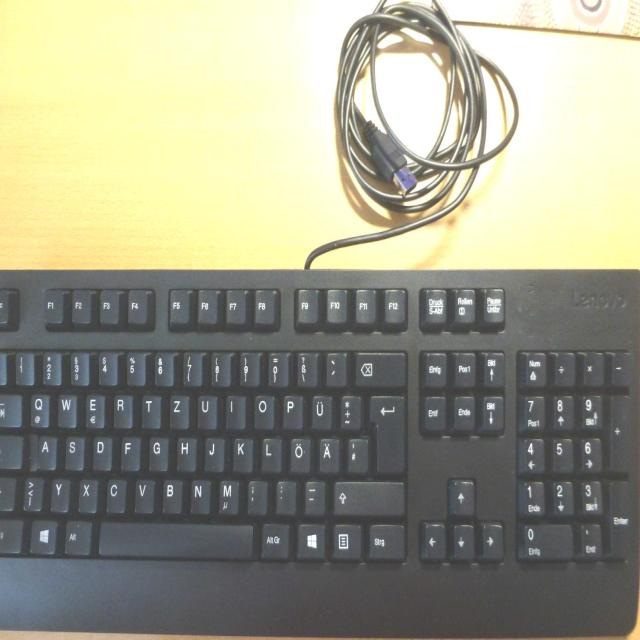0: (266, 348, 288, 385)
1: (13, 349, 33, 384)
2: (40, 349, 60, 384)
3: (68, 349, 89, 384)
4: (96, 348, 116, 384)
5: (124, 348, 145, 384)
6: (152, 348, 173, 385)
7: (181, 348, 201, 384)
8: (208, 349, 230, 386)
9: (237, 349, 259, 386)
a: (35, 431, 55, 468)
accent: (324, 348, 345, 385)
ae: (317, 433, 339, 471)
alt-left: (62, 516, 90, 553)
altgr-right: (259, 520, 289, 557)
b: (160, 475, 181, 511)
c: (104, 474, 125, 511)
caret: (0, 350, 9, 383)
comma: (246, 477, 267, 513)
d: (91, 432, 111, 469)
del: (352, 348, 404, 386)
e: (83, 390, 104, 427)
enter: (368, 392, 404, 474)
f: (119, 433, 139, 468)
g: (147, 433, 167, 469)
h: (175, 433, 196, 469)
hash: (345, 434, 367, 471)
i: (223, 391, 245, 427)
j: (202, 433, 223, 470)
k: (231, 434, 252, 471)
keyboard: (0, 259, 640, 579)
l: (259, 434, 280, 471)
less: (21, 473, 42, 508)
m: (217, 476, 239, 513)
minus: (303, 477, 325, 513)
n: (188, 476, 209, 513)
o: (252, 391, 273, 428)
oe: (288, 433, 310, 471)
p: (280, 391, 302, 428)
plus: (338, 391, 359, 428)
point: (273, 477, 295, 512)
q: (28, 389, 49, 426)
r: (111, 390, 132, 426)
s: (63, 432, 83, 468)
shift-left: (0, 474, 14, 509)
shift-lock: (0, 432, 22, 467)
shift-right: (332, 477, 403, 514)
space: (96, 519, 253, 557)
ss: (295, 349, 316, 386)
strg-left: (0, 516, 22, 552)
strg-right: (365, 521, 405, 559)
t: (140, 390, 159, 426)
tab: (0, 391, 21, 426)
u: (195, 391, 216, 428)
ue: (309, 391, 331, 428)
v: (133, 475, 153, 511)
w: (56, 390, 76, 426)
x: (76, 474, 96, 511)
y: (48, 474, 69, 510)
z: (168, 390, 188, 427)
